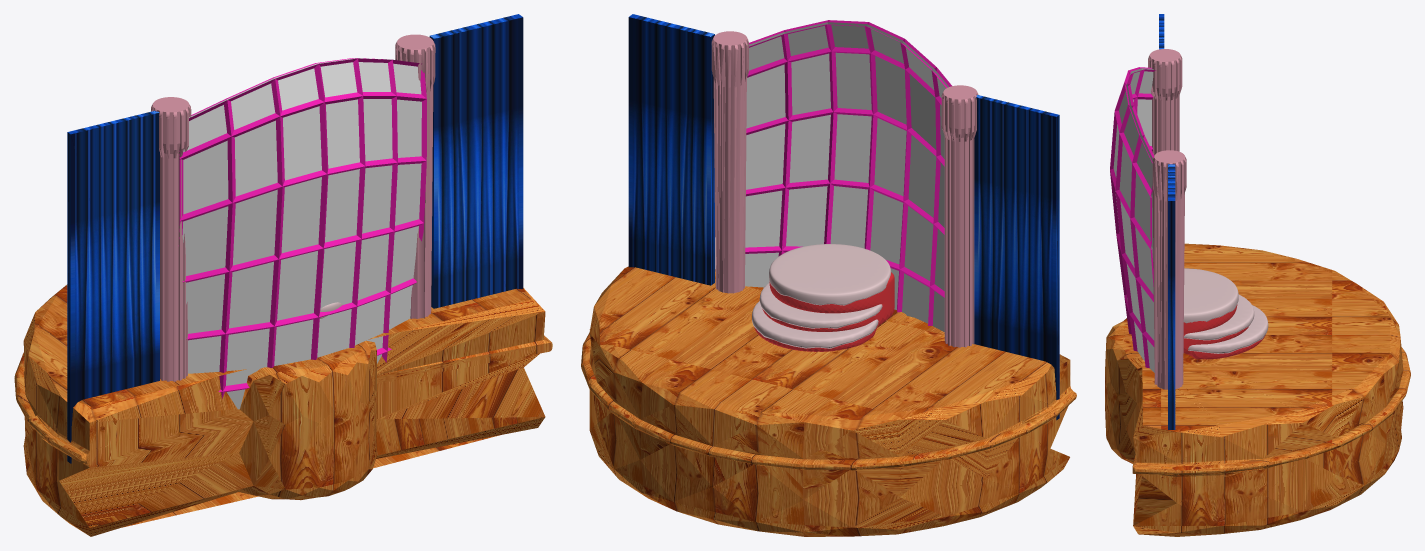
The model's file is ESCENARIO.fbx.
The picture shows the model from 3 angles, left to right: view 1: azimuth 30°, elevation 25°; view 2: azimuth 150°, elevation 25°; view 3: azimuth 270°, elevation 25°; orthographic projection. The views are drawn at different scales.
Parts seen in each view (by area): view 1: Circle, Glass, Cube.018, Cube.019, Bars, Cylinder.001, Cylinder.002; view 2: Circle, Glass, Cube.019, Cube.018, Bars, Cylinder.002, Cylinder.001, Cylinder.003, Circle.001, Cylinder.016, Cylinder.015; view 3: Circle, Glass, Cylinder.002, Bars, Cylinder.001, Cylinder.003, Cube.019, Circle.001, Cylinder.016, Cylinder.015.
Boxes of the visible parts, left/top/right/bottom form: Circle: left=14, top=284, right=552, bottom=536; Glass: left=182, top=58, right=421, bottom=409; Cube.018: left=67, top=111, right=159, bottom=463; Cube.019: left=429, top=14, right=523, bottom=308; Bars: left=178, top=58, right=426, bottom=398; Cylinder.001: left=151, top=97, right=191, bottom=381; Cylinder.002: left=395, top=34, right=435, bottom=318; Circle: left=581, top=266, right=1076, bottom=536; Glass: left=745, top=22, right=948, bottom=331; Cube.019: left=628, top=14, right=714, bottom=285; Cube.018: left=974, top=95, right=1059, bottom=420; Bars: left=745, top=20, right=951, bottom=325; Cylinder.002: left=711, top=31, right=748, bottom=293; Cylinder.001: left=941, top=85, right=978, bottom=347; Cylinder.003: left=769, top=244, right=891, bottom=305; Circle.001: left=754, top=272, right=894, bottom=351; Cylinder.016: left=752, top=301, right=878, bottom=348; Cylinder.015: left=759, top=282, right=882, bottom=328; Circle: left=1105, top=243, right=1410, bottom=536; Glass: left=1113, top=68, right=1154, bottom=372; Cylinder.002: left=1152, top=150, right=1186, bottom=389; Bars: left=1110, top=67, right=1155, bottom=368; Cylinder.001: left=1148, top=49, right=1182, bottom=155; Cylinder.003: left=1127, top=268, right=1238, bottom=323; Cube.019: left=1168, top=164, right=1175, bottom=429; Circle.001: left=1183, top=304, right=1265, bottom=359; Cylinder.016: left=1188, top=305, right=1268, bottom=353; Cylinder.015: left=1184, top=294, right=1254, bottom=340.
Bounding box in the file's own units: 6313 × 5404 × 4130.
